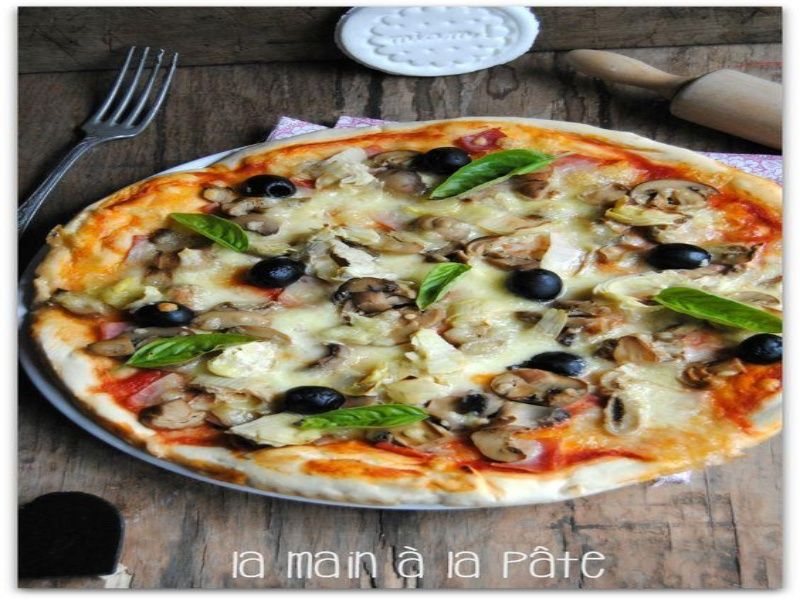champignon: (482, 364, 590, 415), (623, 173, 733, 219), (331, 275, 426, 328), (598, 374, 654, 444), (136, 387, 215, 433), (426, 381, 500, 430)
olive: (636, 236, 720, 283), (122, 293, 207, 337), (229, 254, 309, 299), (263, 380, 347, 422), (726, 330, 797, 373), (504, 264, 569, 306), (407, 141, 477, 180), (234, 168, 298, 209), (523, 346, 591, 378)
